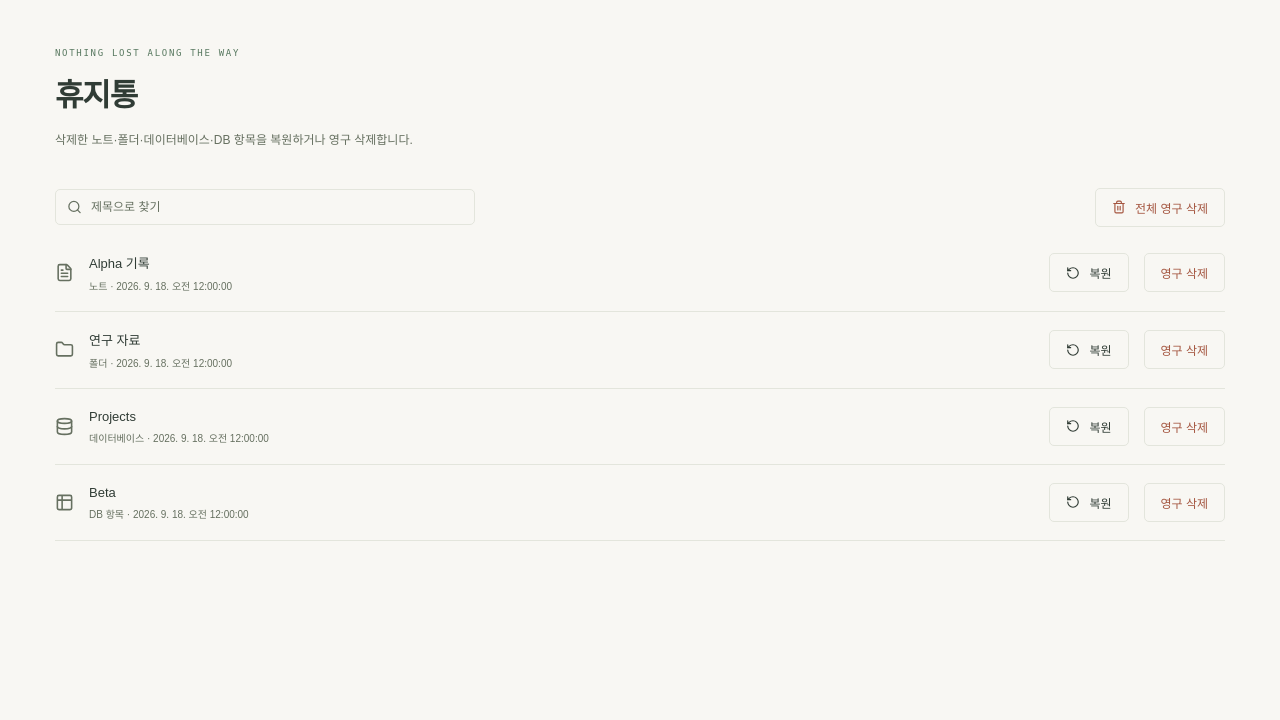
it: permanent delete requires confirmation, cancellation is pure, and successful delete immediately removes the row
Click the button "영구 삭제" in the row of "Alpha 기록" at (1184, 273), box [1144,253,1225,292]
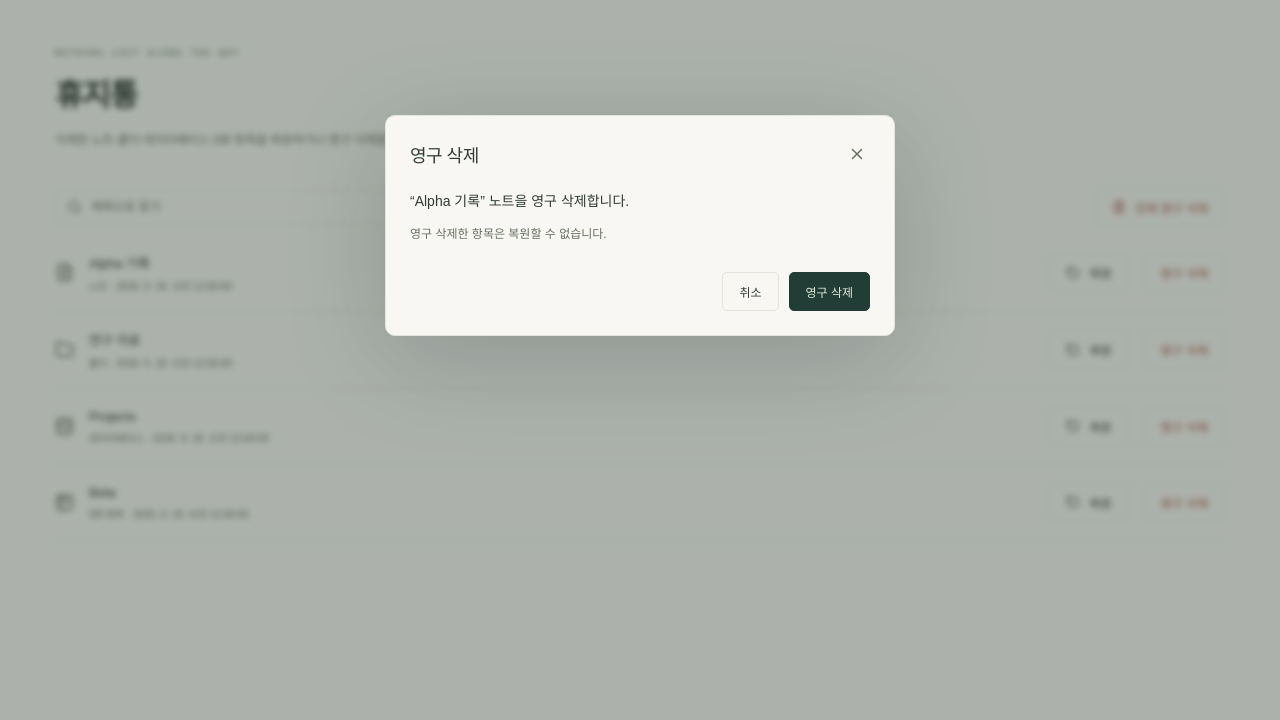
Expected: the dialog shows "Alpha 기록", [415,193,480,209]
Expected: the dialog shows "복원할 수 없습니다", [410,227,607,241]
Click the button "취소" at (750, 291), box [722,272,778,311]
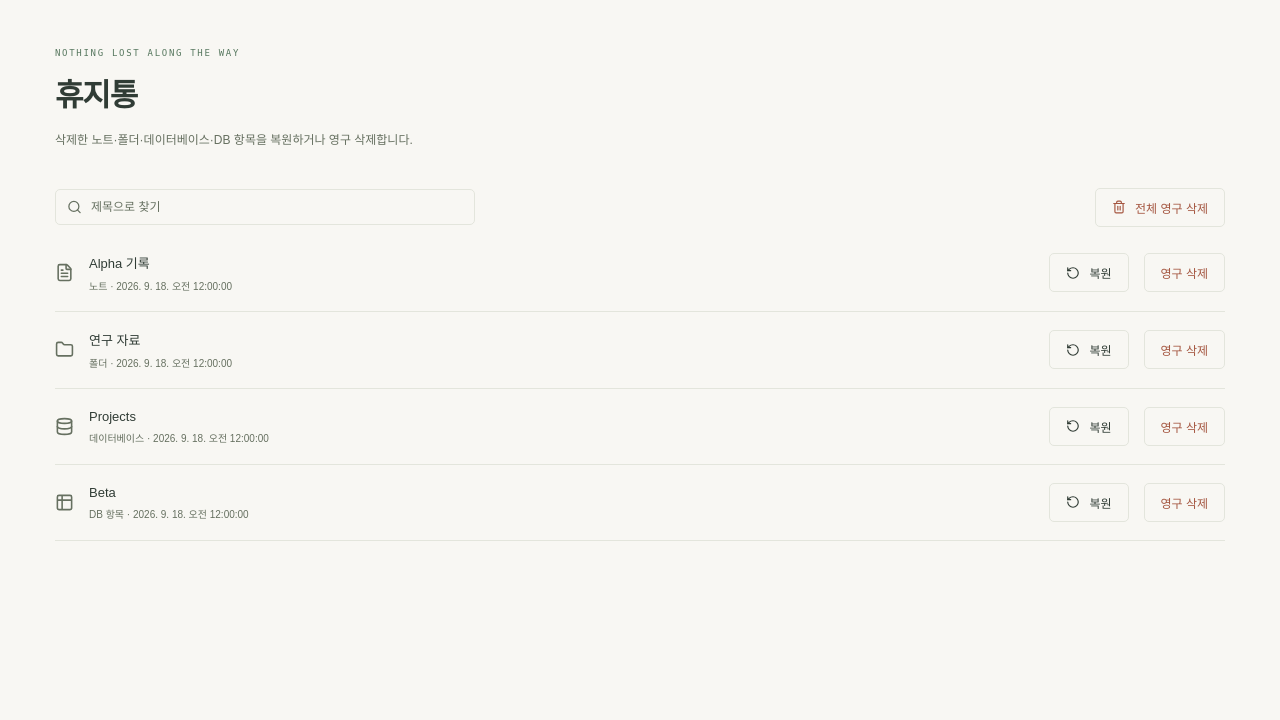
Expected: the dialog is gone
Click the button "영구 삭제" in the row of "Alpha 기록" at (1184, 273), box [1144,253,1225,292]
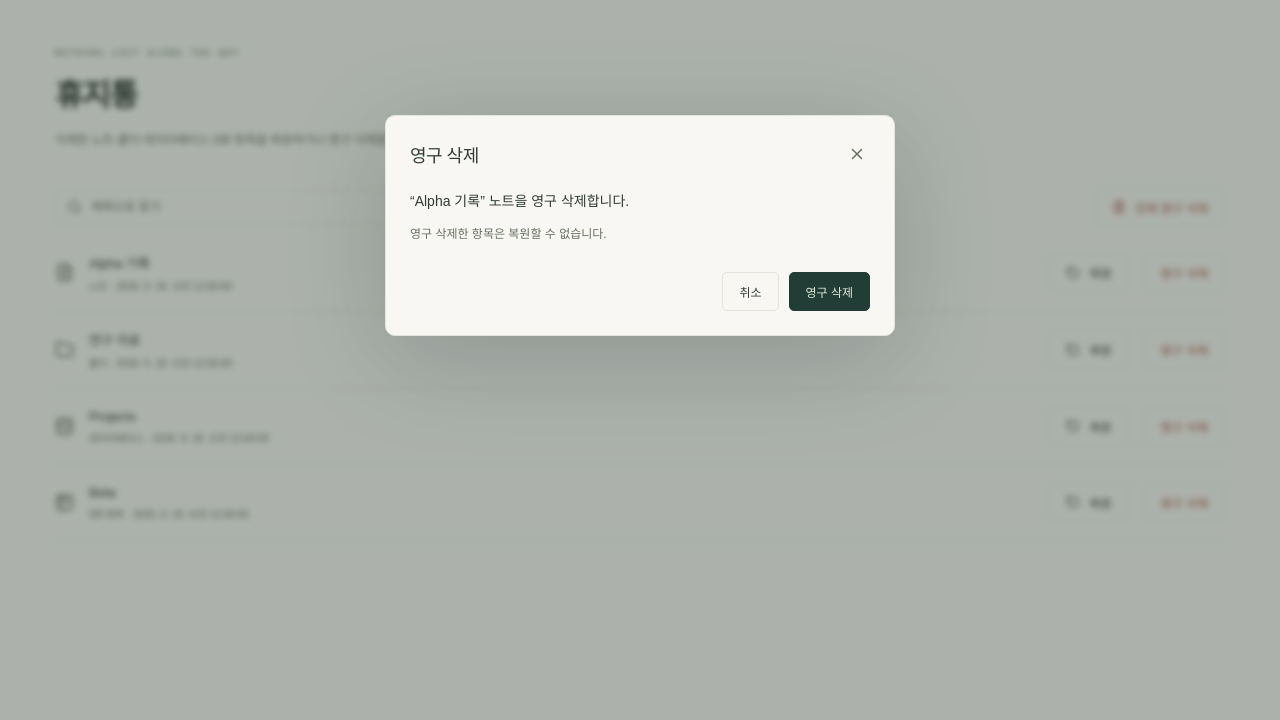
Submit the form, box [410,190,870,311]
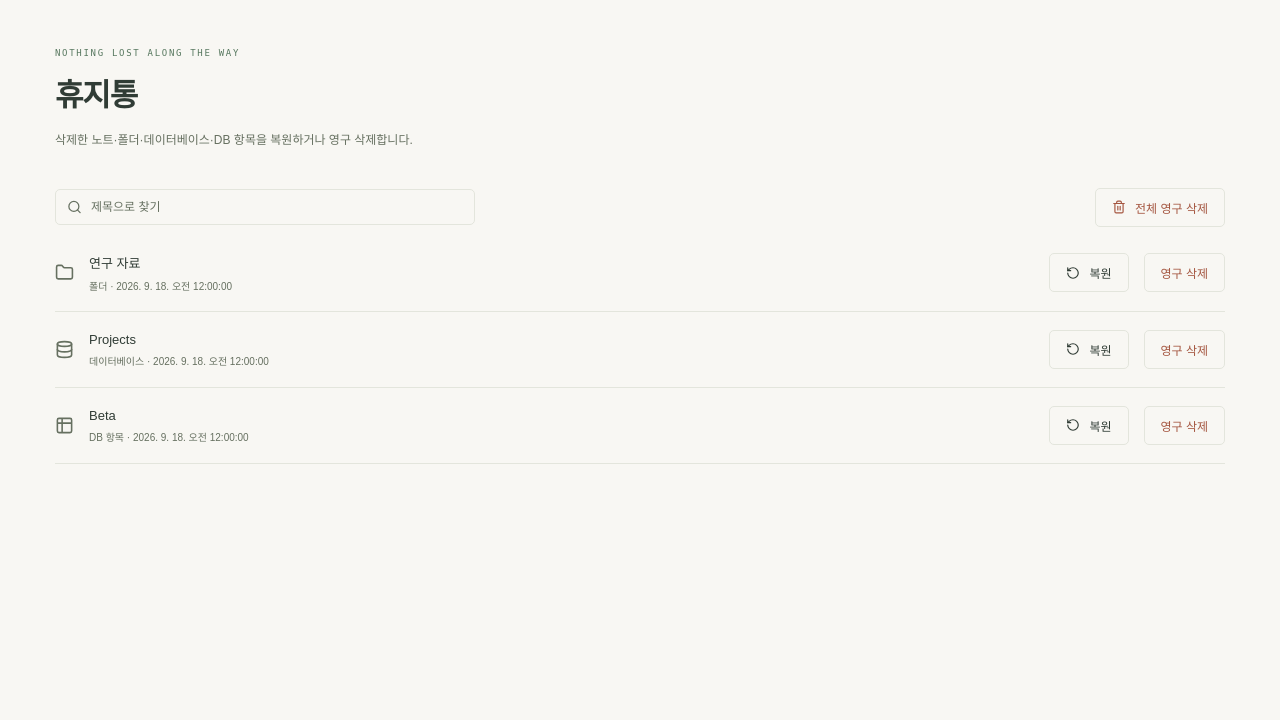
Expected: the dialog is gone
